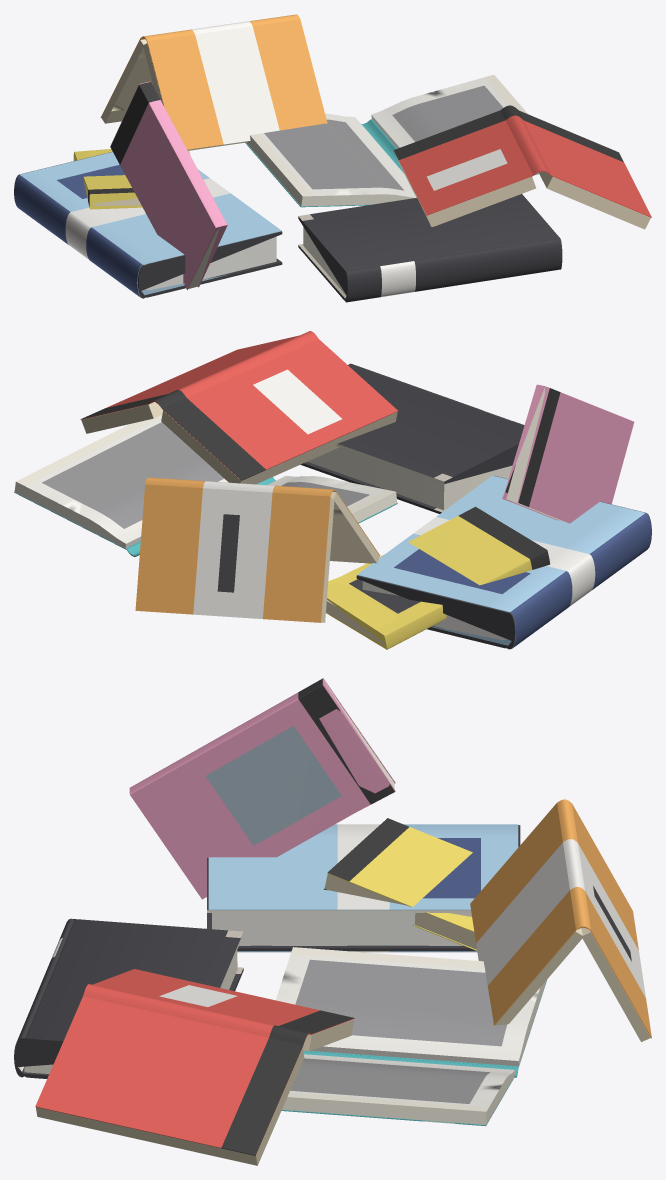
File: paper_books_scattered_a.fbx
3 renders of one model, top to bottom at view 1: azimuth 30°, elevation 25°; view 2: azimuth 150°, elevation 25°; view 3: azimuth 270°, elevation 25°, orthographic. The views are drawn at different scales.
Visible parts, largest first — view 1: paper_books_scattered_a; view 2: paper_books_scattered_a; view 3: paper_books_scattered_a.
Boxes of the visible parts, box(x1,y1,x2,y2) form: paper_books_scattered_a: box(14, 14, 651, 302); paper_books_scattered_a: box(14, 331, 651, 649); paper_books_scattered_a: box(14, 678, 651, 1165).
Bounding box in the file's own units: 0.5566 × 0.1818 × 0.4891.
